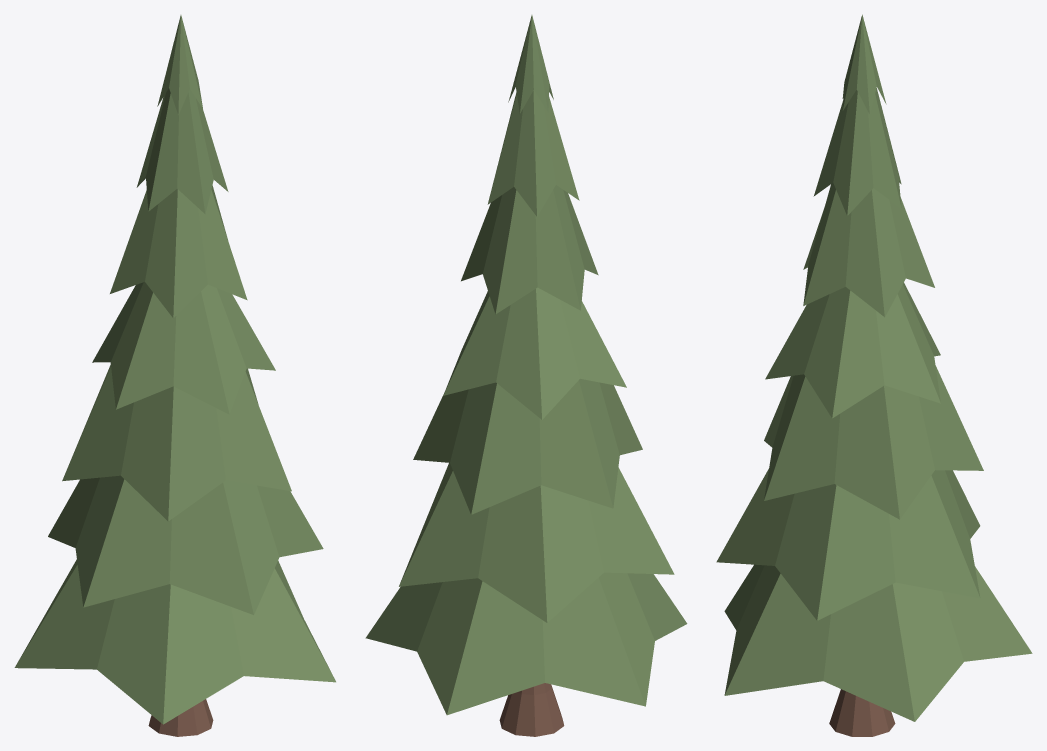
The model's file is pineTree.fbx.
The picture shows the model from 3 angles, left to right: view 1: azimuth 30°, elevation 25°; view 2: azimuth 150°, elevation 25°; view 3: azimuth 270°, elevation 25°; orthographic projection.
Visible parts, largest first — view 1: Cylinder, Cylinder.001; view 2: Cylinder, Cylinder.001; view 3: Cylinder, Cylinder.001.
Part boxes in pixels (x1,y1,x2,y2): Cylinder: [14, 15, 335, 724]; Cylinder.001: [148, 699, 213, 736]; Cylinder: [365, 15, 687, 715]; Cylinder.001: [499, 683, 564, 736]; Cylinder: [716, 14, 1032, 721]; Cylinder.001: [829, 689, 895, 736].
Bounding box in the file's own units: 416 × 1006 × 406.
